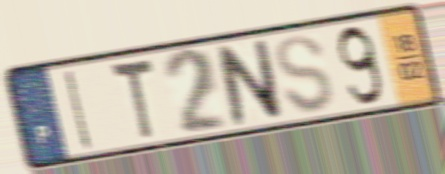2: (163, 46, 233, 140)
9: (334, 23, 386, 108)
I: (62, 66, 95, 153)
N: (213, 37, 286, 129)
S: (274, 32, 336, 117)
T: (107, 55, 158, 143)
